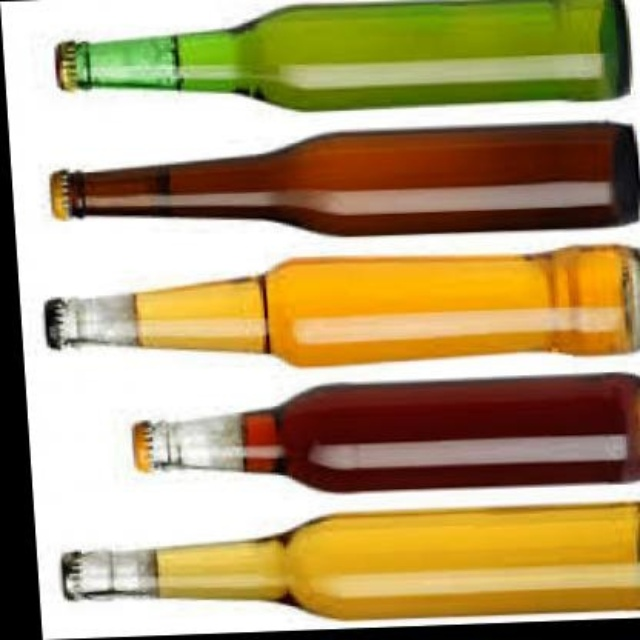trash: (45, 245, 638, 365), (51, 123, 638, 234), (55, 0, 628, 109), (132, 374, 638, 491)
